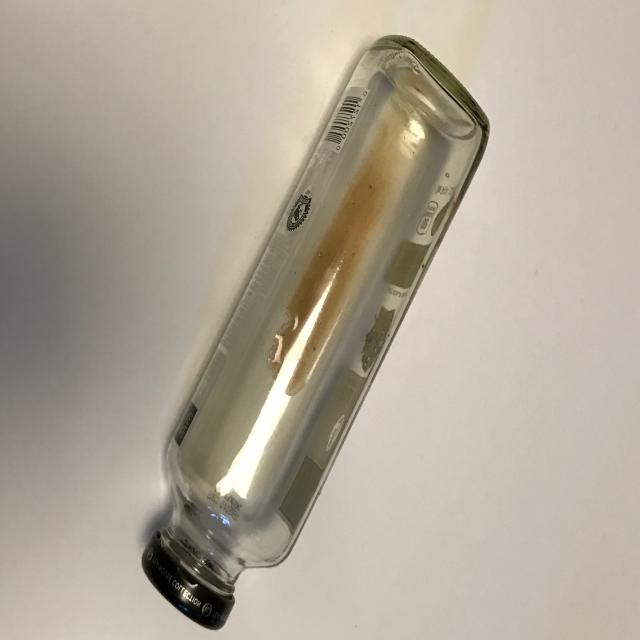glass: (140, 33, 491, 631)
